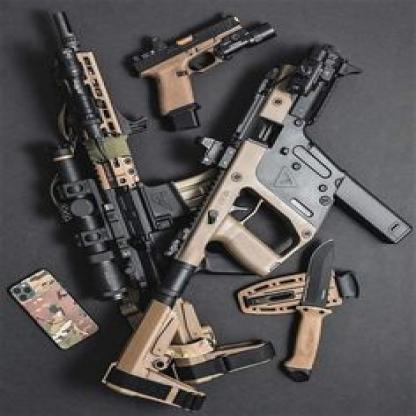Gun: (99, 41, 416, 416), (44, 9, 280, 388)
Knife: (234, 236, 362, 384)
Pistol: (120, 11, 278, 135)
